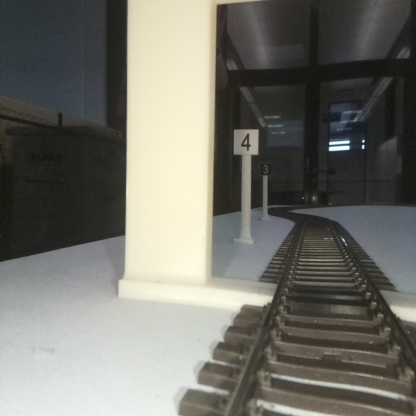black-info-3: (259, 162, 272, 219)
white-info-4: (234, 128, 258, 241)
